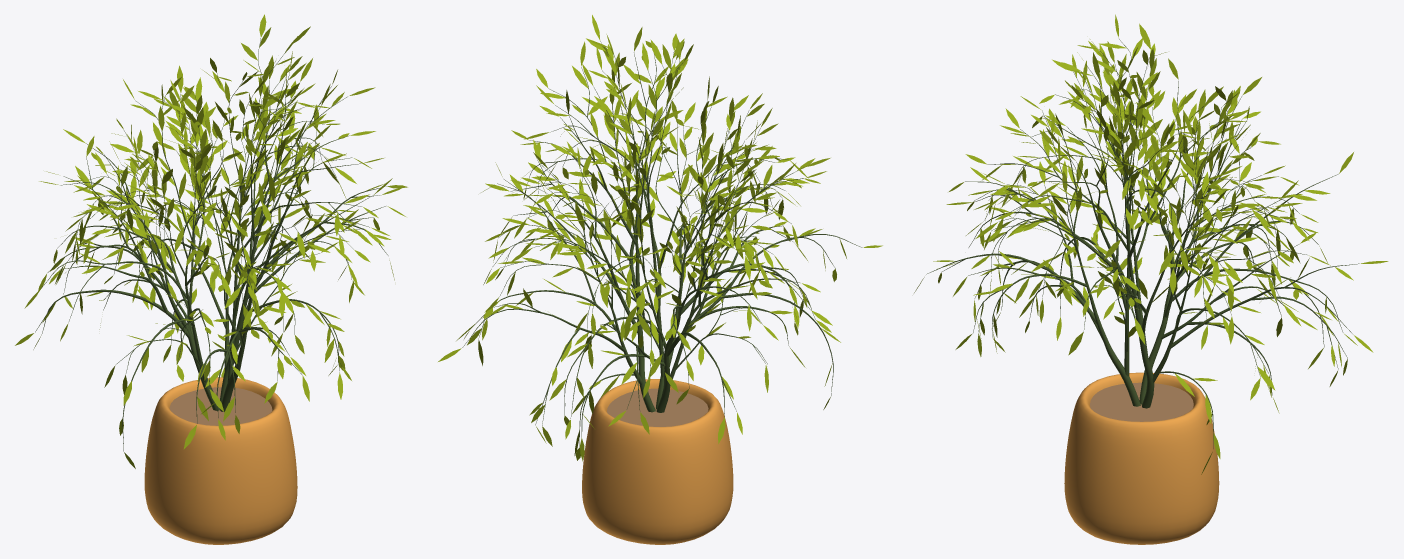
The model's file is PottedPlant1.fbx.
3 views of the same model, side by side, from view 1: azimuth 30°, elevation 25°; view 2: azimuth 150°, elevation 25°; view 3: azimuth 270°, elevation 25° (orthographic). The views are drawn at different scales.
Visible parts, largest first — view 1: leaves, PottedPlant1, tree, Dirt; view 2: leaves, PottedPlant1, tree, Dirt; view 3: leaves, PottedPlant1, tree, Dirt.
Part boxes in pixels (bbox=[...]): leaves: bbox=[15, 14, 407, 468]; PottedPlant1: bbox=[144, 377, 297, 544]; tree: bbox=[35, 38, 388, 451]; Dirt: bbox=[169, 387, 272, 425]; leaves: bbox=[438, 15, 882, 461]; PottedPlant1: bbox=[582, 379, 733, 544]; tree: bbox=[462, 41, 862, 446]; Dirt: bbox=[607, 388, 708, 426]; leaves: bbox=[914, 14, 1388, 474]; PottedPlant1: bbox=[1064, 372, 1219, 544]; tree: bbox=[926, 39, 1359, 448]; Dirt: bbox=[1090, 382, 1193, 421].
Size of the model in its own units: 223 by 286 by 244.
